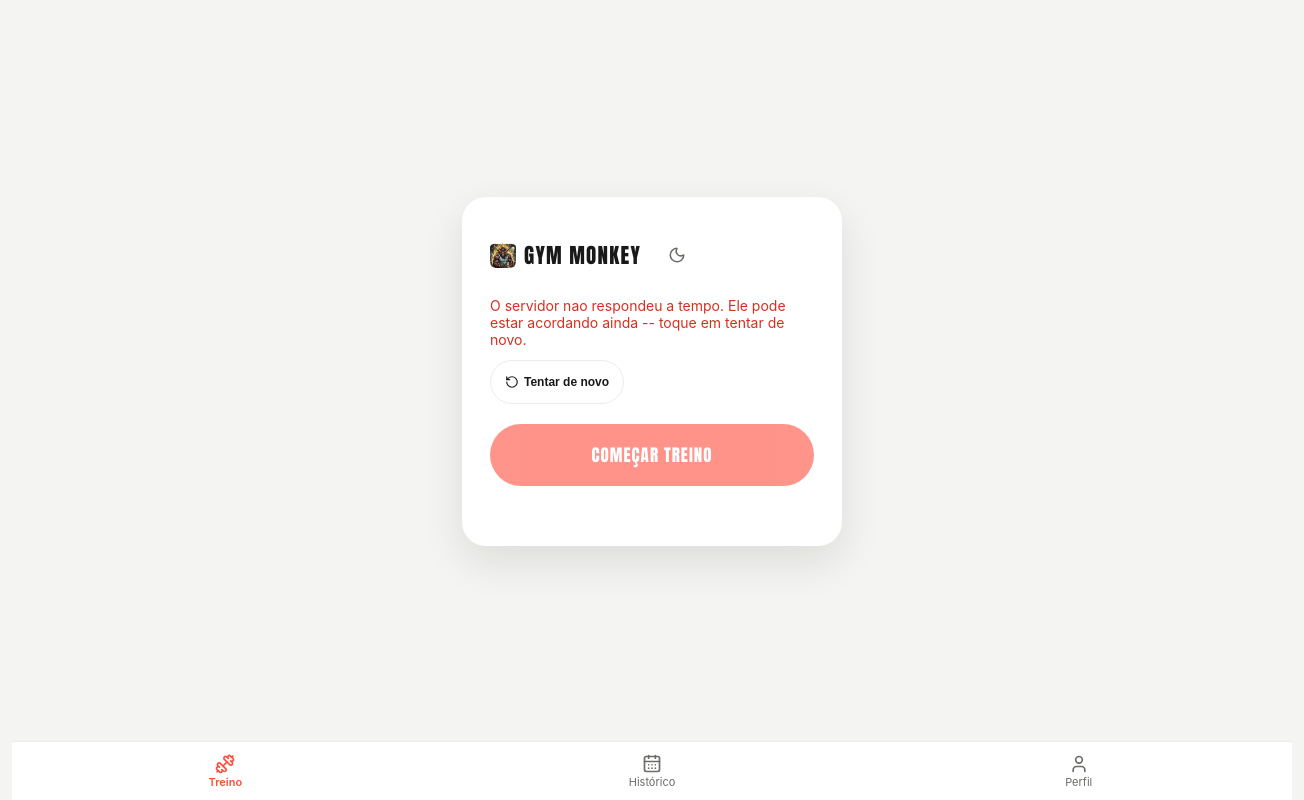
Test: PontoScreen (sessoes) › carregamento › a nova tentativa nao carrega o veredito da anterior
Expected: the text "nao respondeu a tempo" is shown, [490,296,786,348]
Click the button "Tentar de novo" at [557, 382], box [490,360,624,404]
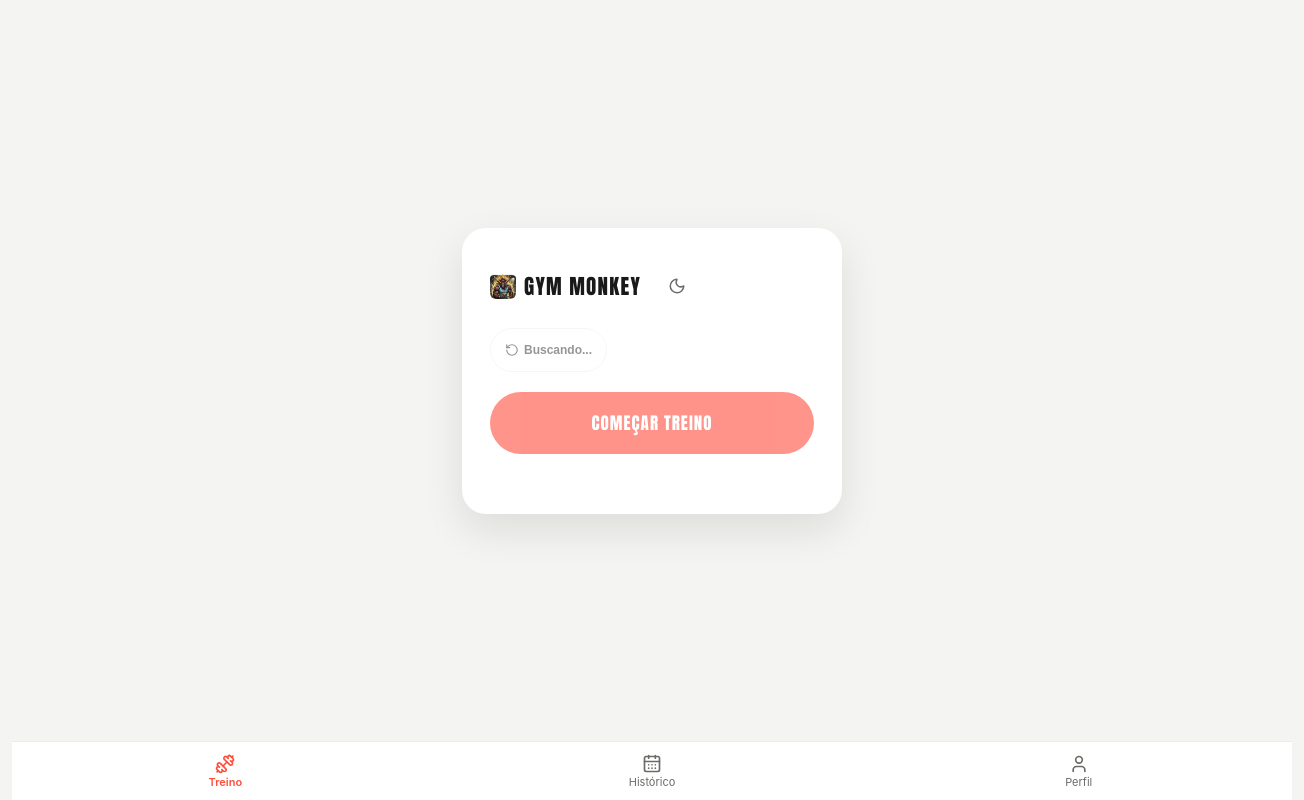
Expected: the text "nao respondeu a tempo" is gone
Expected: the button "Buscando..." is disabled, [490,328,607,372]
